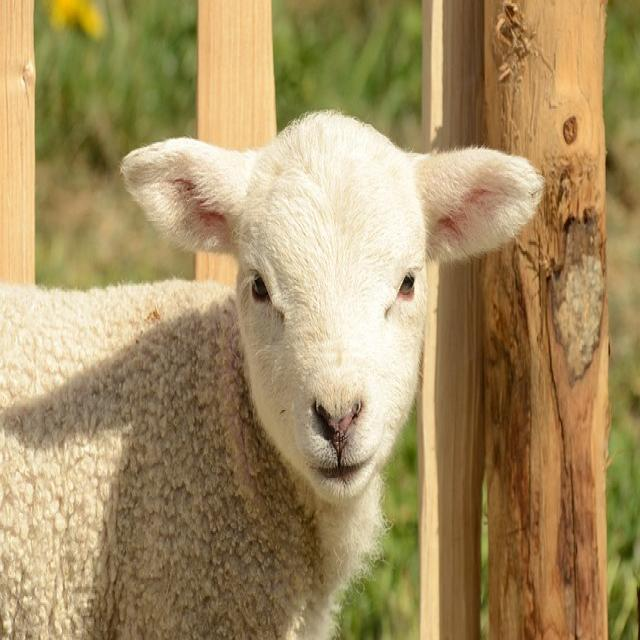goat: (0, 112, 542, 637)
